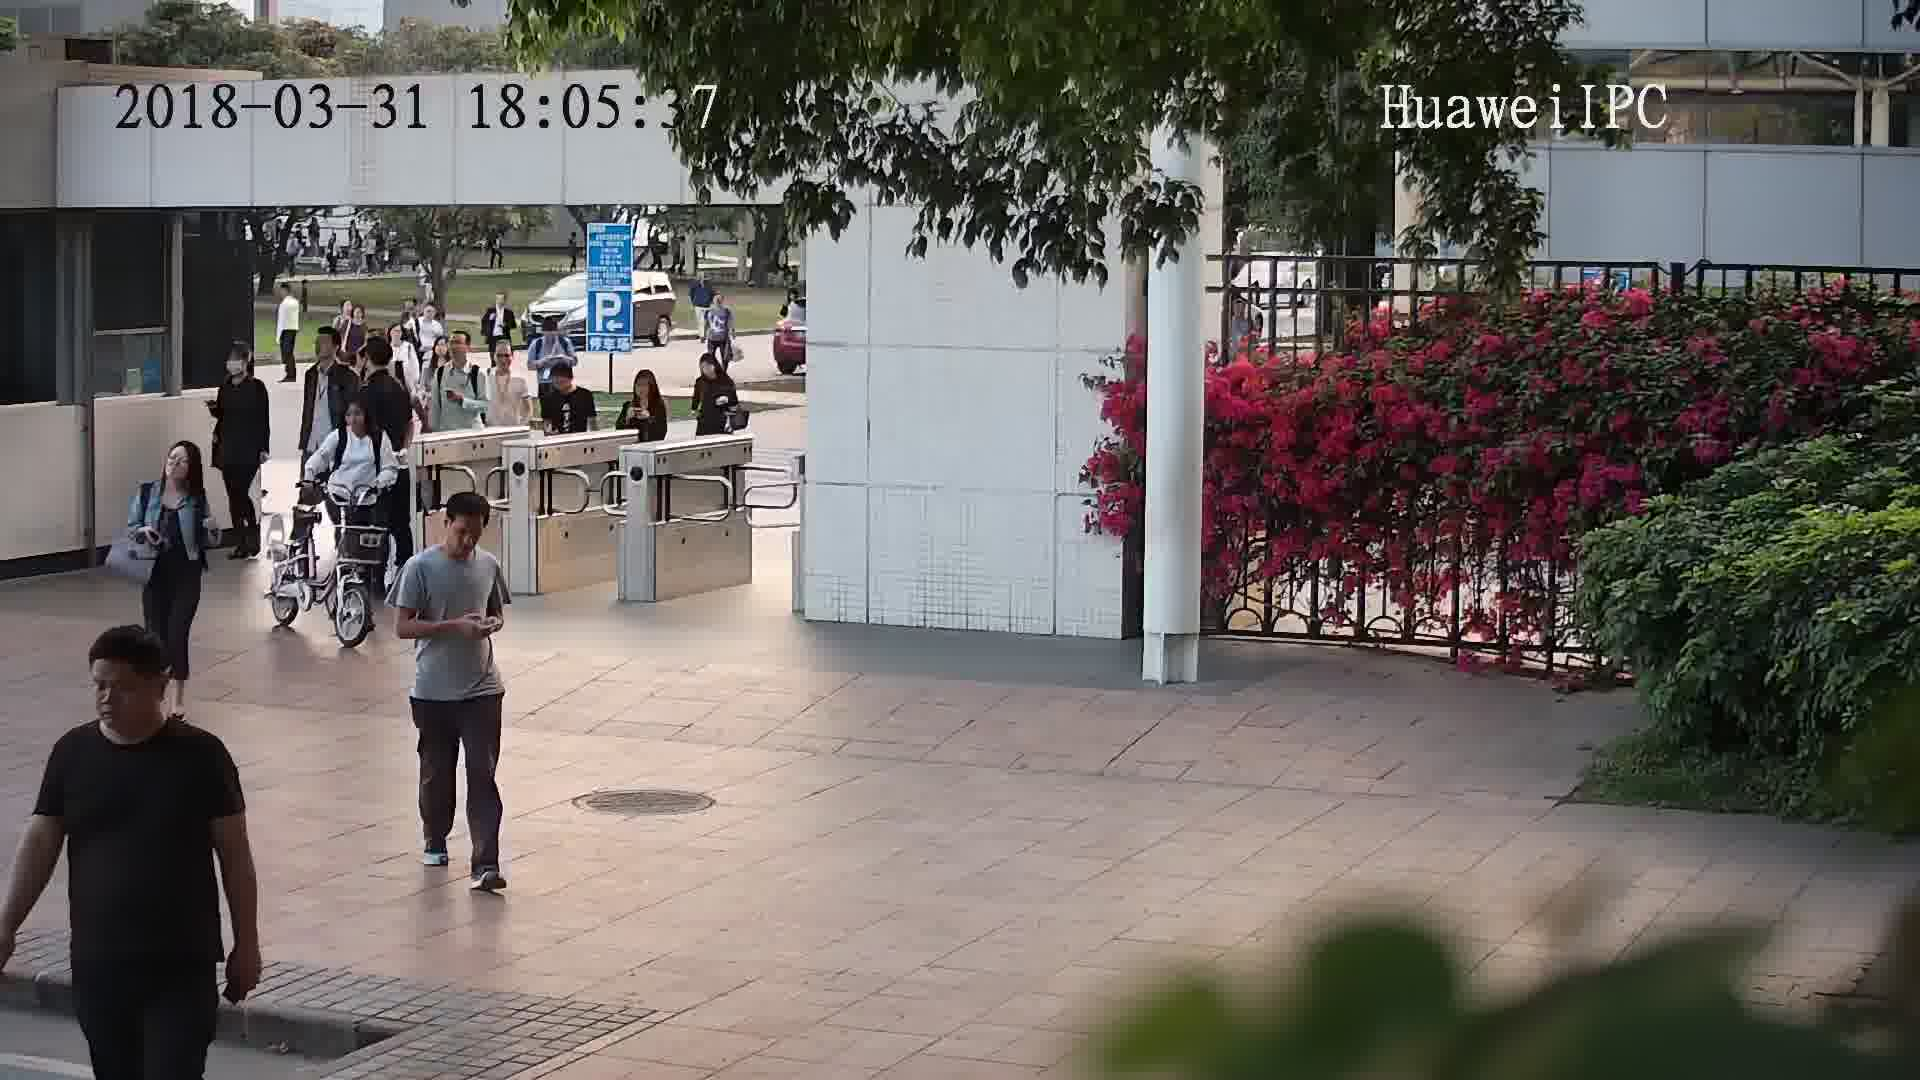face: (86, 655, 160, 730), (437, 513, 490, 557)
person: (41, 624, 234, 780), (405, 487, 501, 583), (139, 438, 215, 509), (326, 396, 390, 454), (358, 336, 409, 396), (217, 340, 267, 398), (305, 327, 351, 387), (483, 336, 531, 384), (429, 334, 477, 381), (544, 362, 595, 405), (625, 367, 665, 411), (694, 350, 735, 391), (386, 320, 419, 359), (413, 298, 445, 332), (422, 337, 452, 371), (534, 314, 566, 343), (347, 298, 372, 334), (328, 299, 358, 329), (276, 277, 301, 310), (484, 290, 513, 317), (688, 265, 717, 292), (712, 291, 732, 315)
